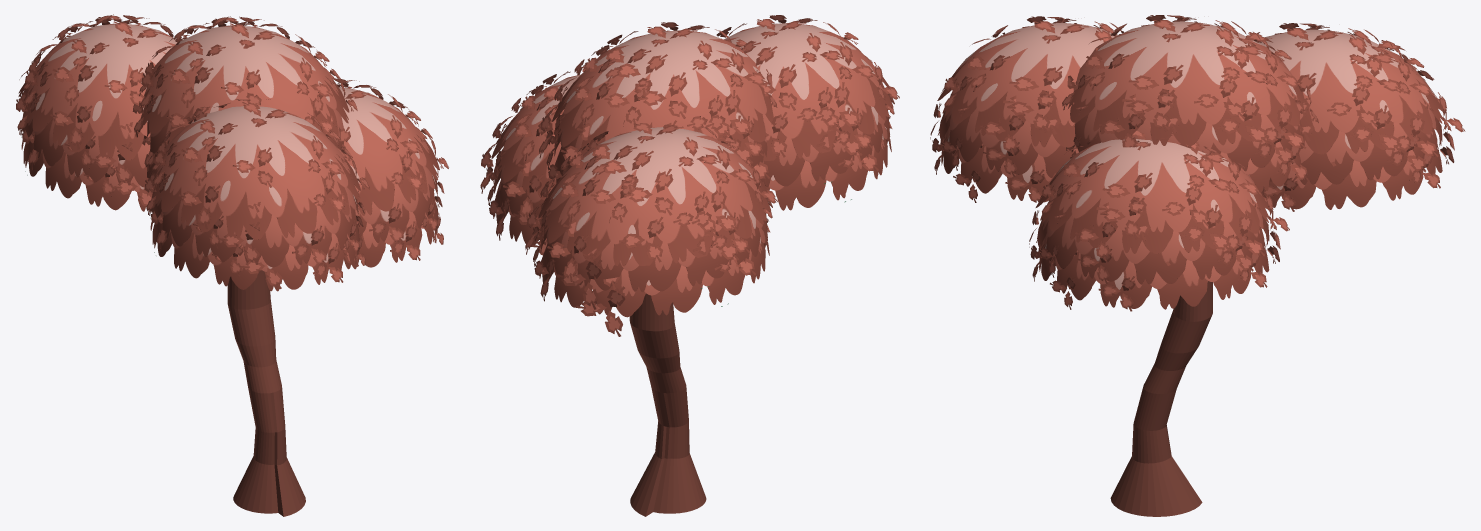
Rendered from ThreeCrimson2.fbx.
The picture shows the model from 3 angles, left to right: view 1: azimuth 30°, elevation 25°; view 2: azimuth 150°, elevation 25°; view 3: azimuth 270°, elevation 25°; orthographic projection. The views are drawn at different scales.
Visible parts, largest first — view 1: ThreeCrimson2; view 2: ThreeCrimson2; view 3: ThreeCrimson2.
Part boxes in pixels (x1,y1,x2,y2): ThreeCrimson2: (16, 14, 448, 516); ThreeCrimson2: (480, 15, 899, 516); ThreeCrimson2: (930, 15, 1465, 516).
Bounding box in the file's own units: 1519 × 2075 × 2143.
